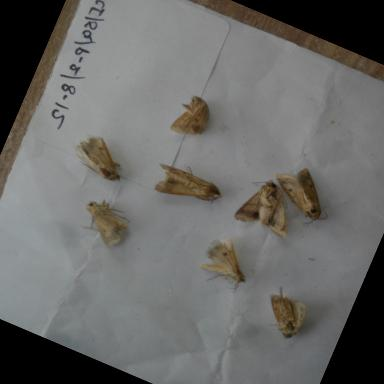abw: (256, 151, 348, 237), (221, 164, 309, 248), (180, 220, 268, 303), (142, 148, 234, 222), (248, 274, 322, 352), (70, 191, 146, 261), (63, 124, 138, 190), (160, 86, 228, 152)
